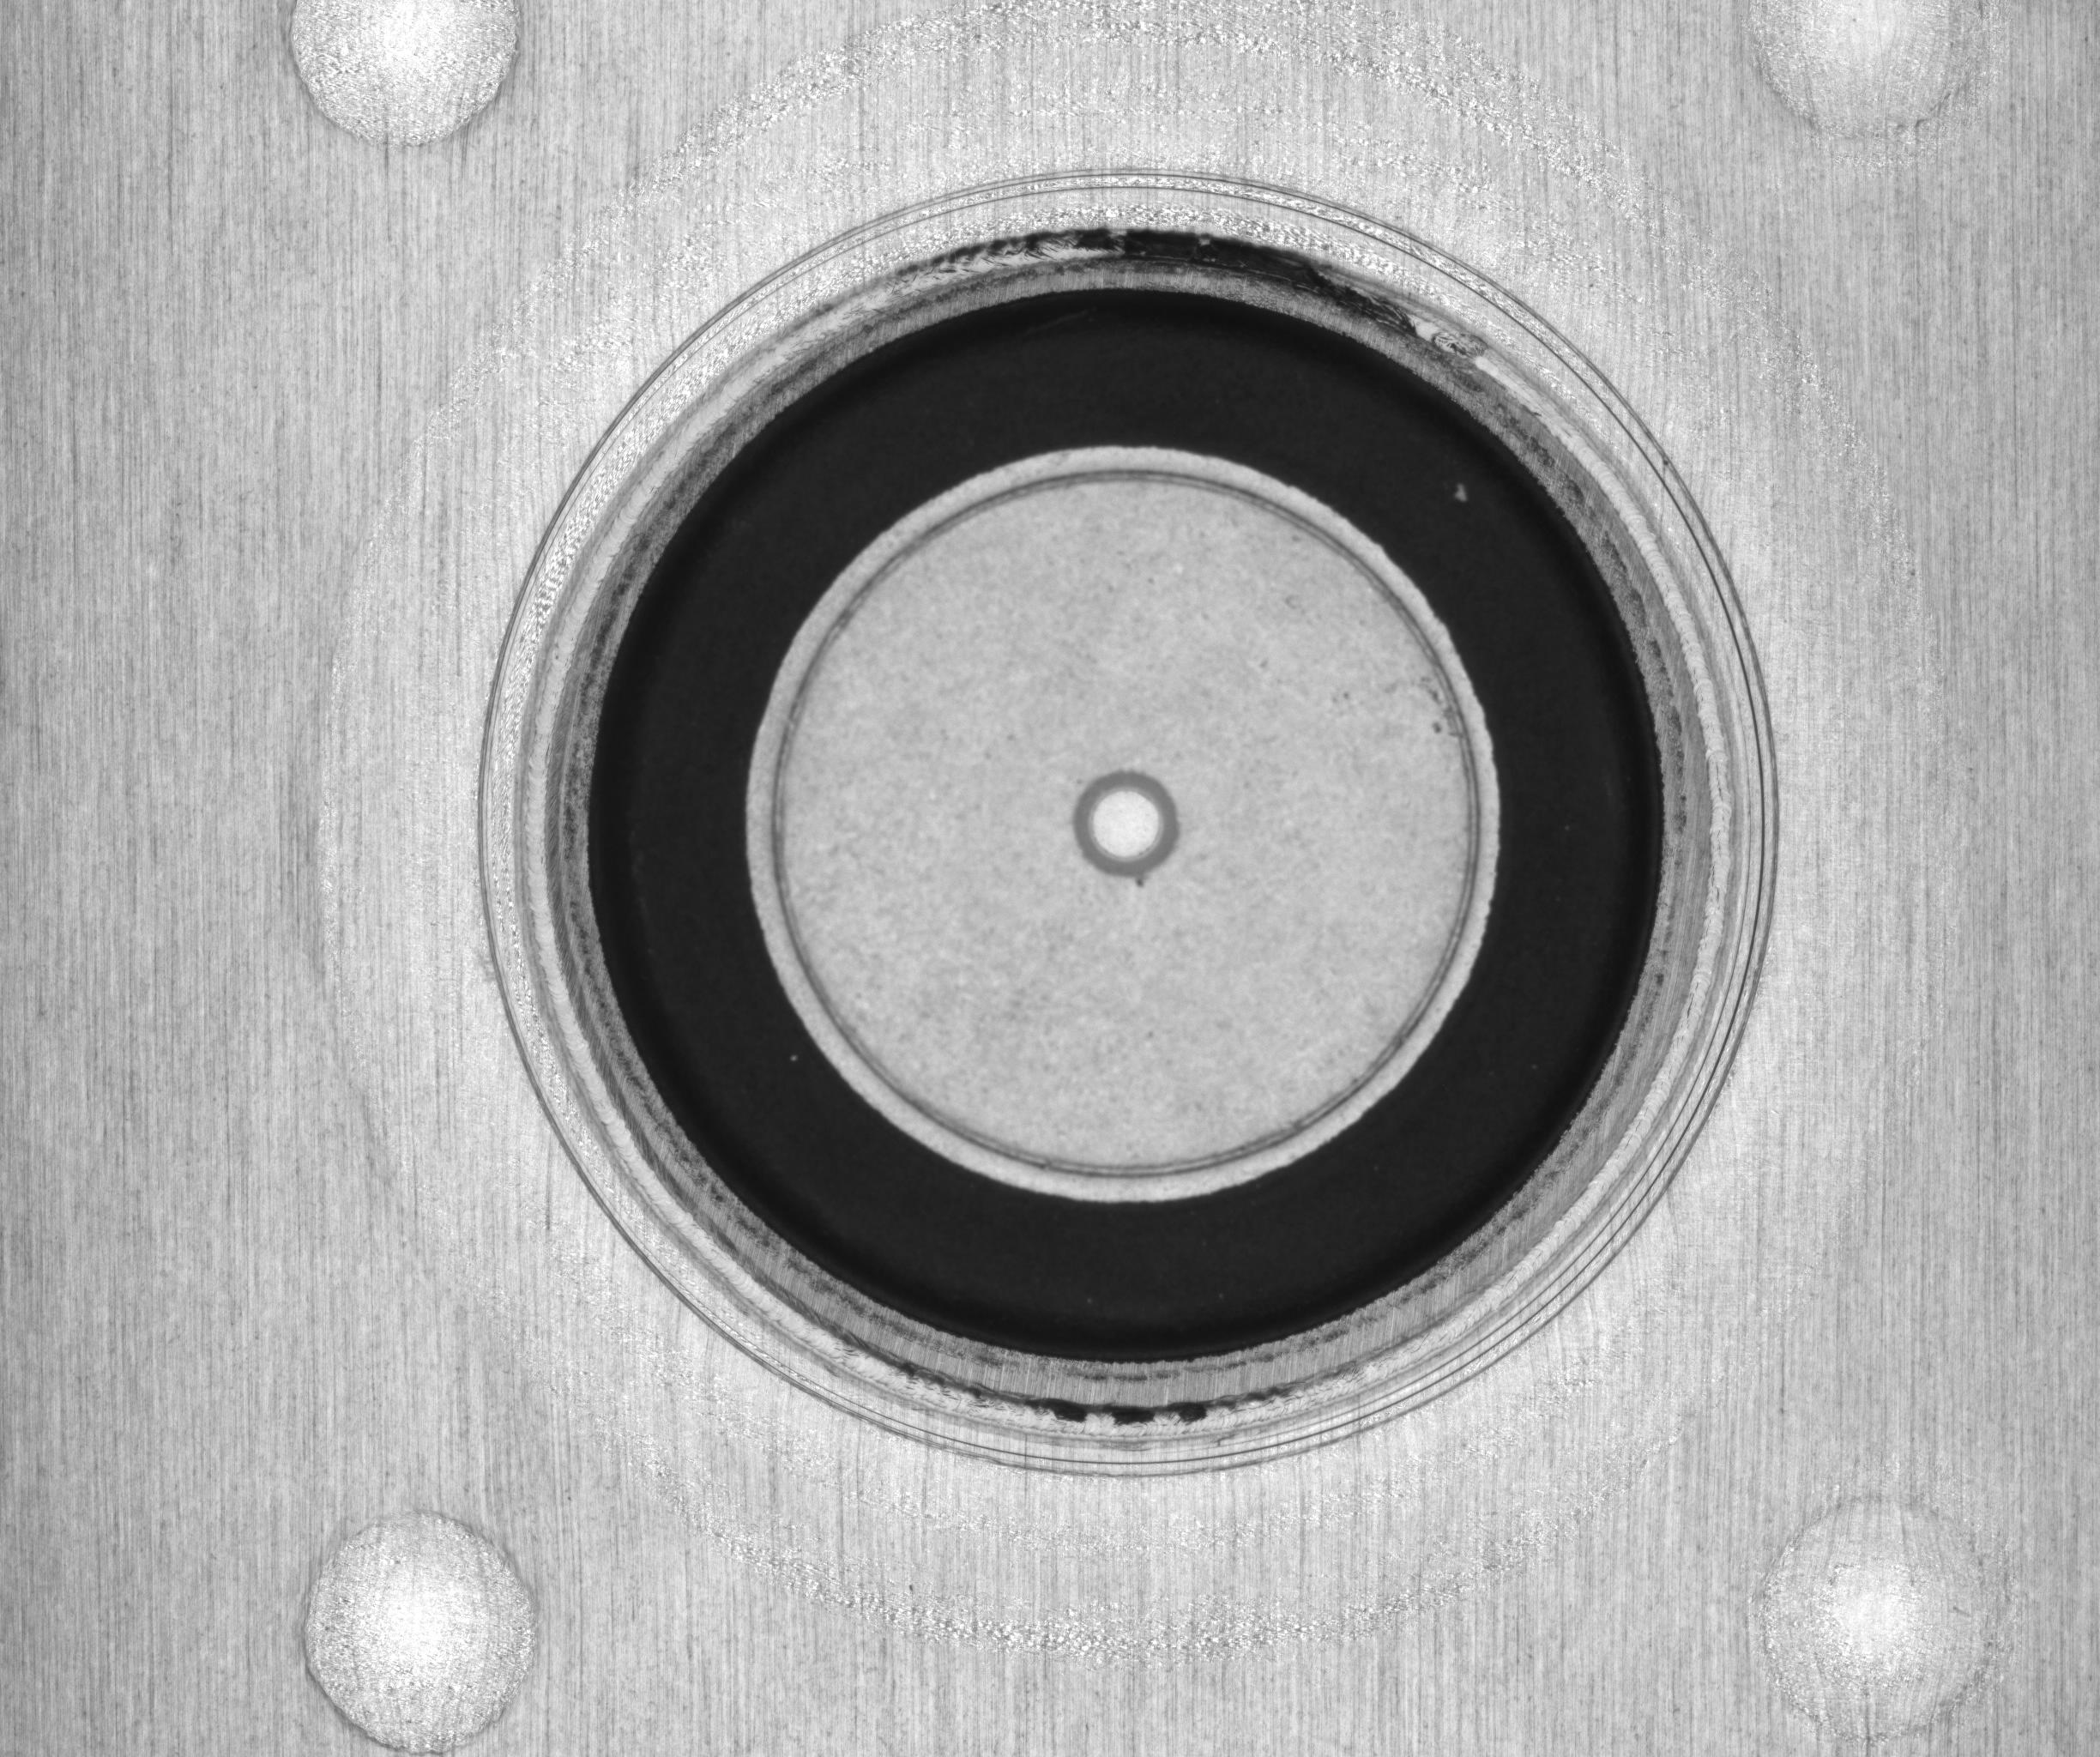lackofweld: (1017, 185, 1446, 365)
